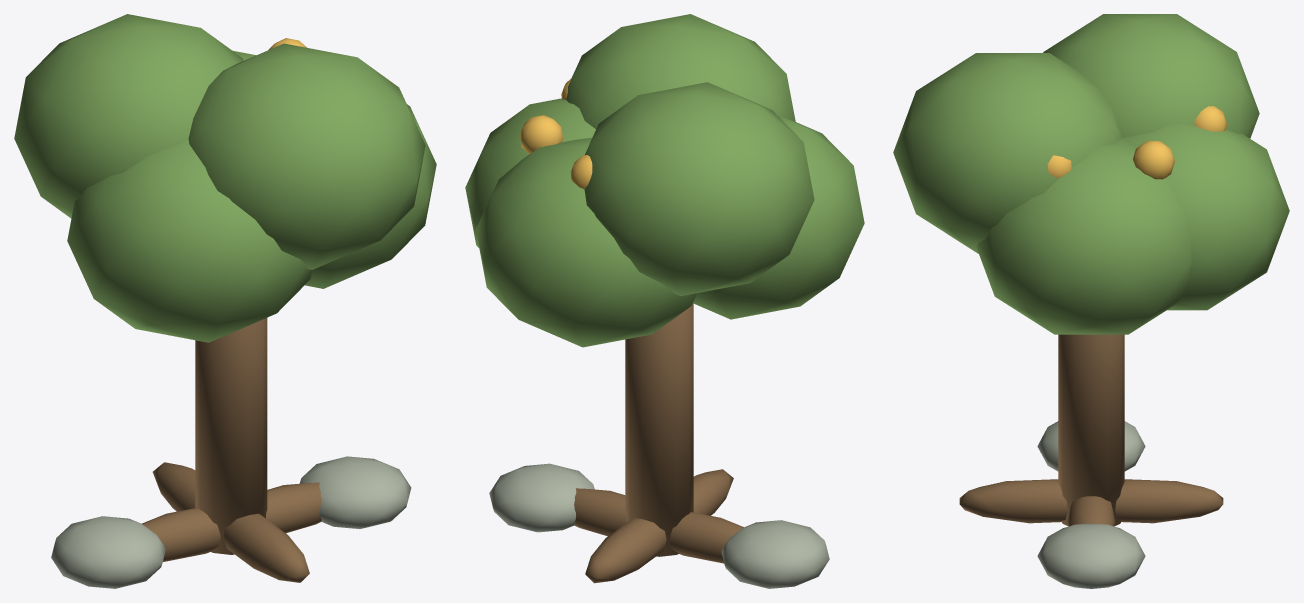
Rendered from prop-wishing-tree.glb.
3 renders of one model, left to right at view 1: azimuth 30°, elevation 25°; view 2: azimuth 150°, elevation 25°; view 3: azimuth 270°, elevation 25°, orthographic. The views are drawn at different scales.
Parts seen in each view (by area): view 1: prop-wishing-tree_leaf, prop-wishing-tree_bark, prop-wishing-tree_rock; view 2: prop-wishing-tree_leaf, prop-wishing-tree_bark, prop-wishing-tree_rock, prop-wishing-tree_Quest golden; view 3: prop-wishing-tree_leaf, prop-wishing-tree_bark, prop-wishing-tree_rock, prop-wishing-tree_Quest golden.
Boxes of the visible parts, left/top/right/bottom form: prop-wishing-tree_leaf: left=14, top=14, right=436, bottom=342; prop-wishing-tree_bark: left=142, top=318, right=321, bottom=582; prop-wishing-tree_rock: left=51, top=456, right=411, bottom=588; prop-wishing-tree_leaf: left=465, top=14, right=864, bottom=347; prop-wishing-tree_bark: left=574, top=303, right=743, bottom=583; prop-wishing-tree_rock: left=489, top=463, right=829, bottom=588; prop-wishing-tree_Quest golden: left=520, top=78, right=592, bottom=189; prop-wishing-tree_leaf: left=893, top=14, right=1289, bottom=334; prop-wishing-tree_bark: left=959, top=334, right=1223, bottom=526; prop-wishing-tree_rock: left=1037, top=421, right=1145, bottom=588; prop-wishing-tree_Quest golden: left=1047, top=106, right=1227, bottom=179.
Size of the model in its own units: 1.75 by 2.43 by 1.83.
